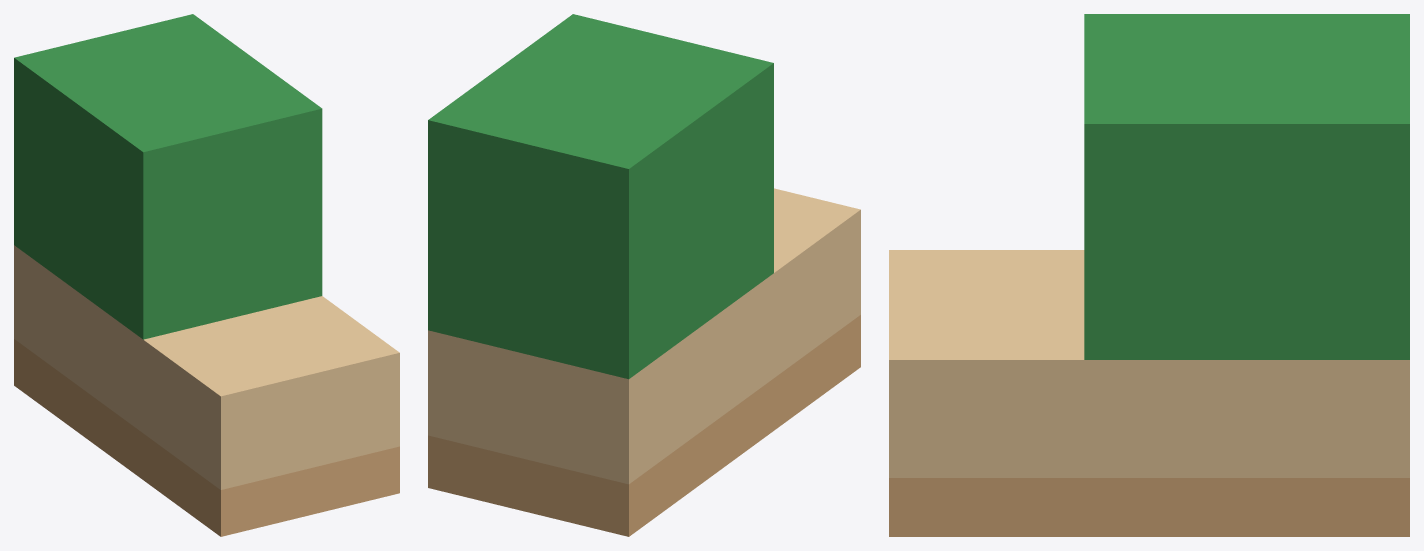
File: Kompot-6.obj
3 renders of one model, left to right at view 1: azimuth 30°, elevation 25°; view 2: azimuth 150°, elevation 25°; view 3: azimuth 270°, elevation 25°, orthographic. The views are drawn at different scales.
Size of the model in its own units: 0.4 by 0.7 by 0.8.
Materials: 1 (1 with a texture image).
